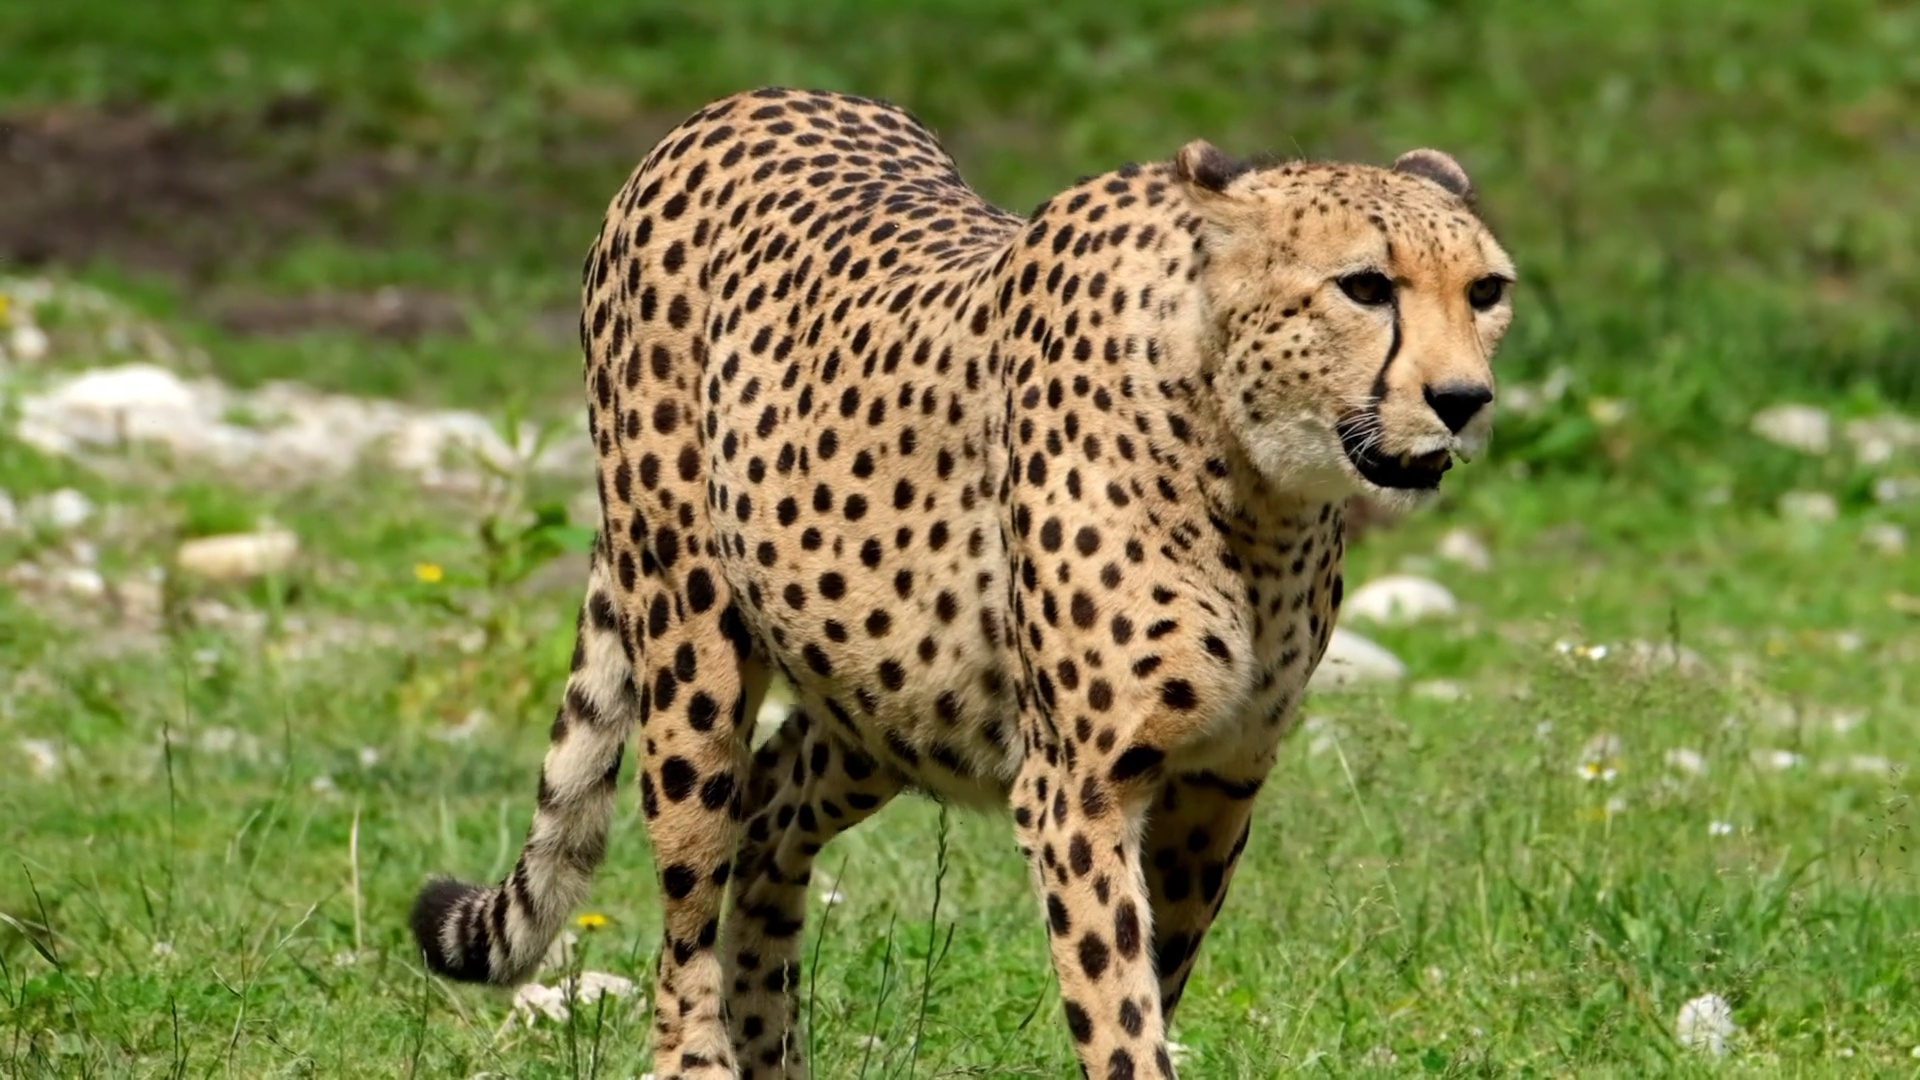Cheetah: (411, 80, 1520, 1080)
